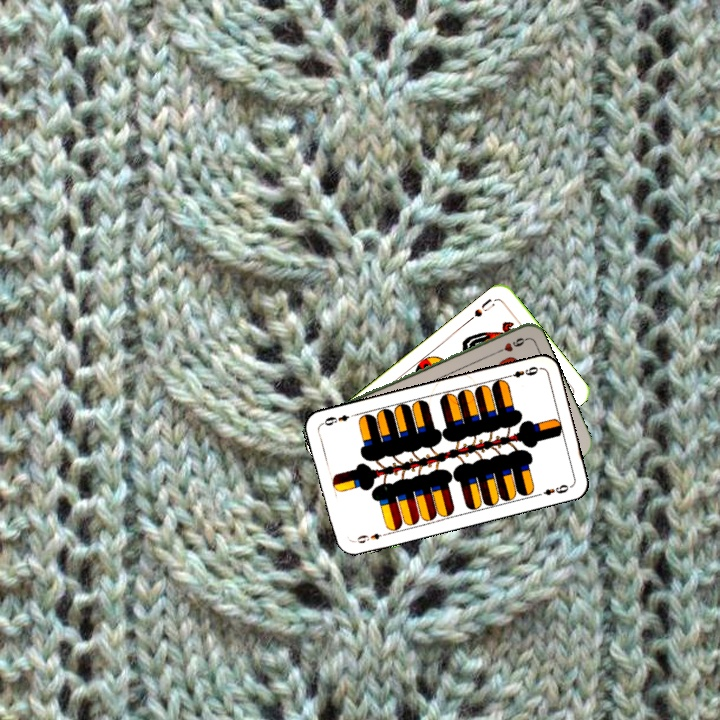E9: (502, 362, 541, 380), (350, 529, 390, 546)
H9: (491, 333, 529, 357)
SU: (464, 295, 498, 324)
